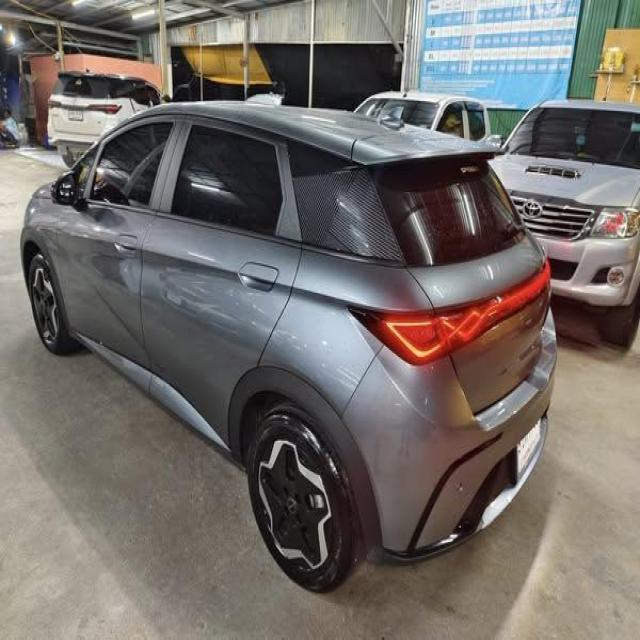Hatchback: (20, 98, 559, 594)
